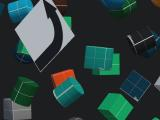Left: (15, 0, 75, 72)
